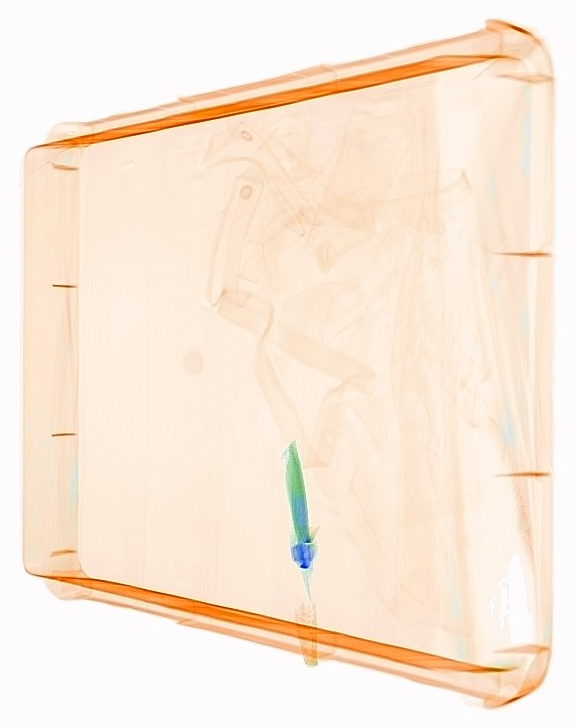Knife: (280, 436, 322, 670)
